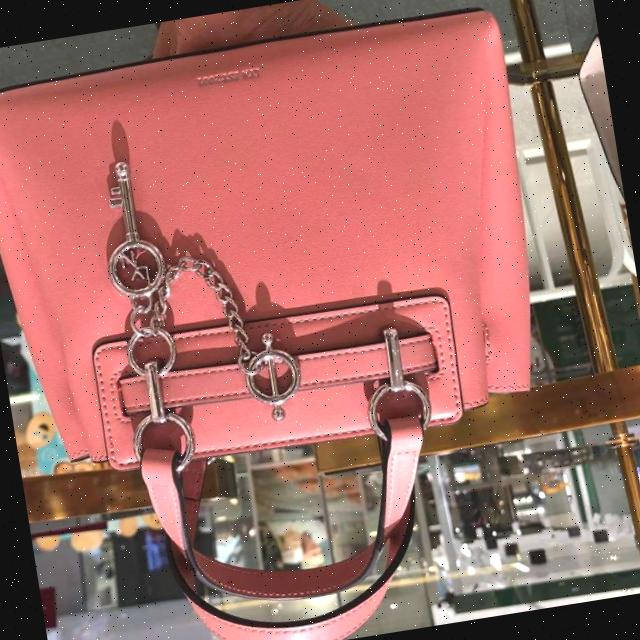Handbag: (0, 0, 579, 523)
